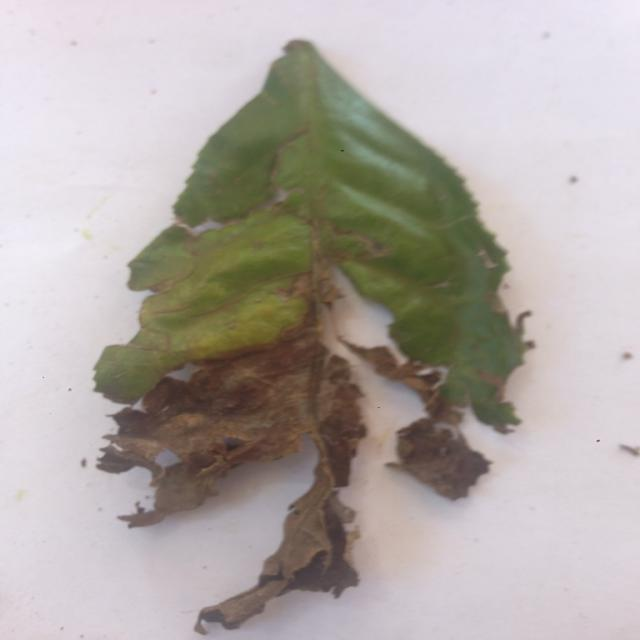Brown Blight: (104, 24, 537, 635)
